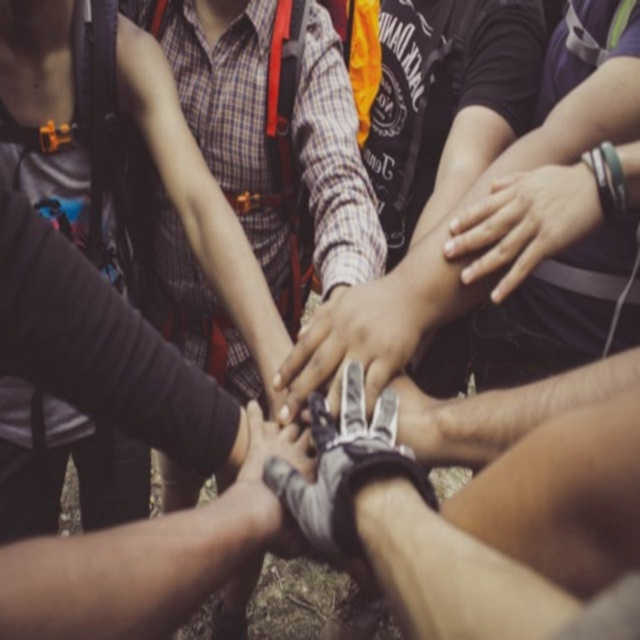foam_scum: (305, 9, 396, 316), (422, 107, 601, 257)
turbid_water: (0, 0, 640, 640), (13, 13, 627, 627)
